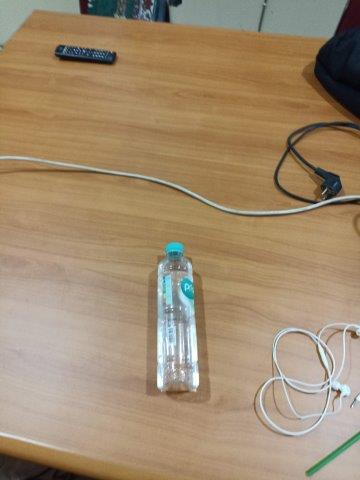botolplastik: (156, 241, 200, 391)
